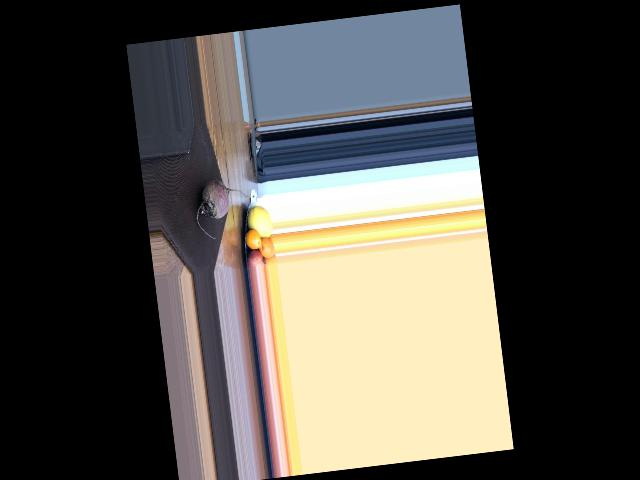beet: (192, 176, 250, 241)
